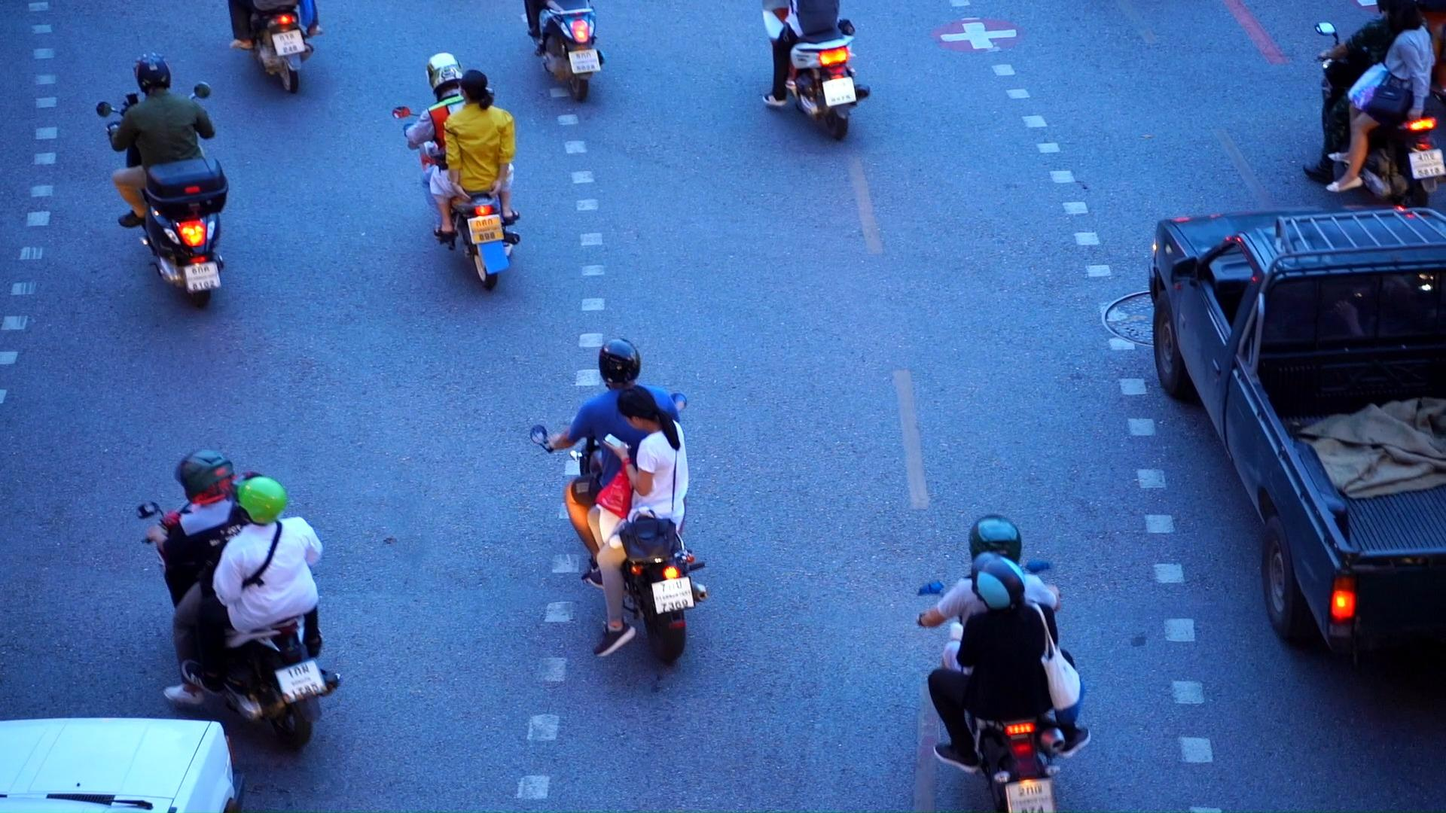driver: (136, 448, 340, 749), (529, 338, 711, 666), (916, 514, 1090, 813), (97, 52, 231, 308), (391, 52, 521, 291), (1303, 0, 1446, 208), (762, 0, 870, 141), (225, 0, 323, 93), (524, 0, 606, 102)
helmet: (970, 551, 1027, 613), (225, 471, 289, 526), (174, 448, 235, 504), (968, 514, 1022, 566), (599, 338, 640, 386), (132, 52, 171, 93), (426, 52, 463, 95)
no-helmet: (616, 384, 679, 433), (457, 69, 494, 111), (1385, 0, 1422, 36)
